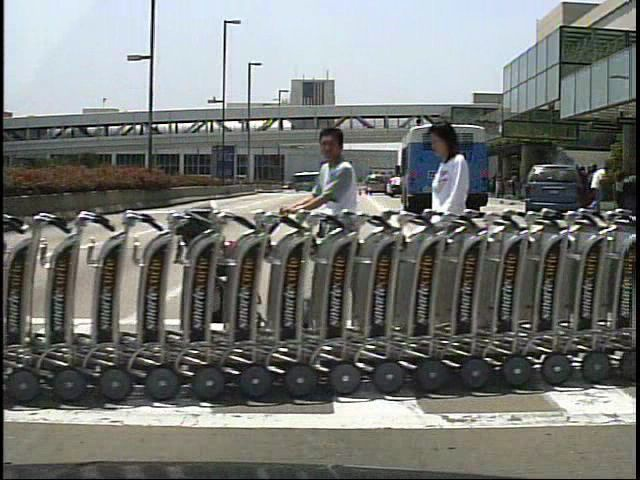person: (284, 119, 380, 360), (424, 115, 487, 334), (591, 164, 611, 214), (584, 163, 601, 215)
